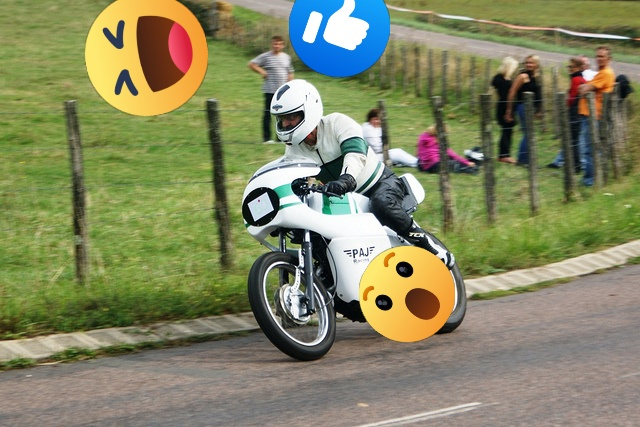haha: (85, 0, 208, 116)
like: (289, 0, 390, 77)
wow: (359, 246, 455, 342)
